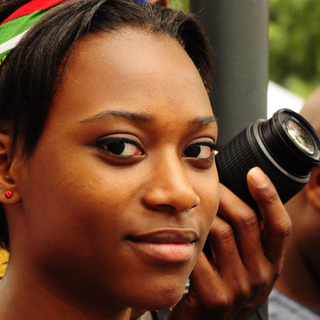eye: (91, 132, 144, 161), (178, 139, 216, 167)
